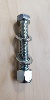FinishedAssembly: (11, 13, 40, 85)
